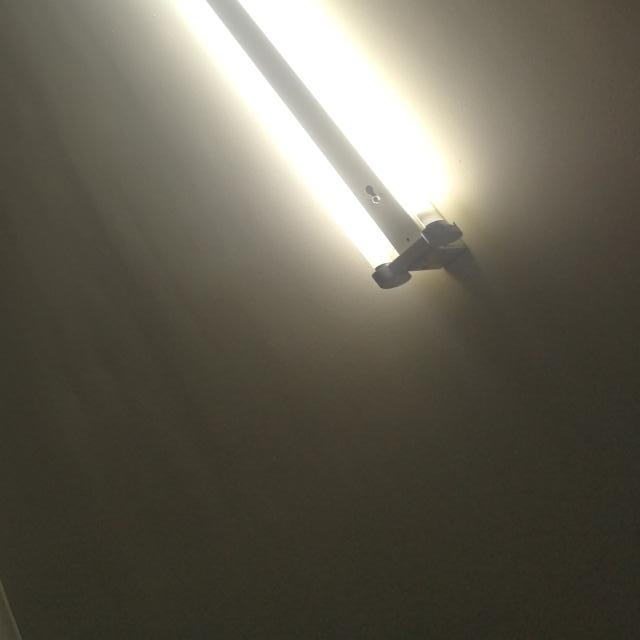fluorescent tube: (0, 0, 479, 313)
